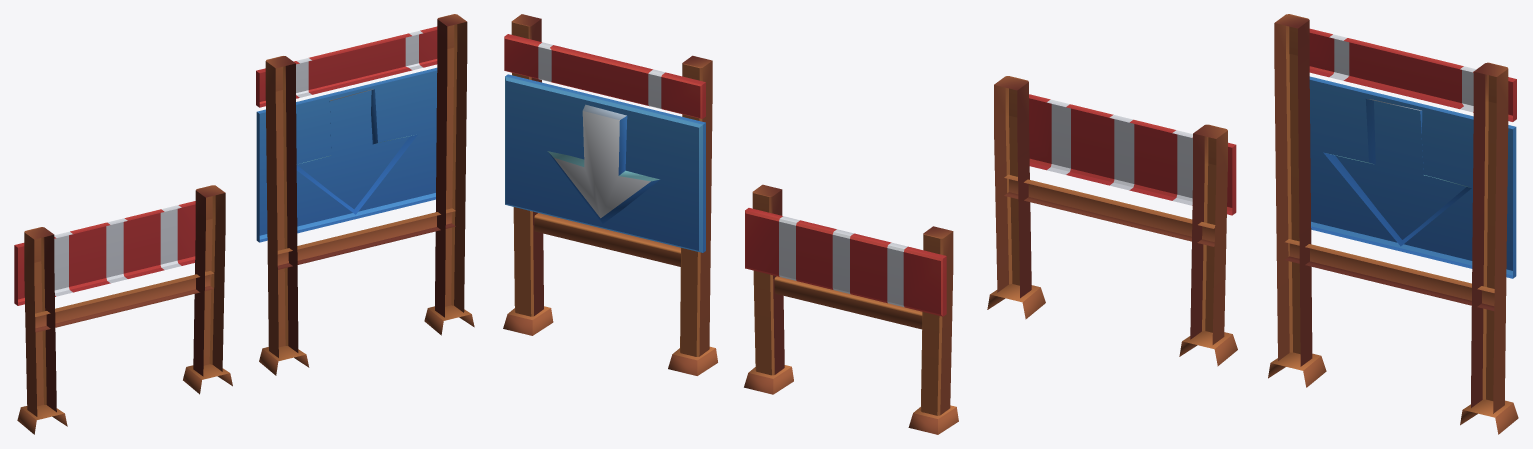
Rendered from barrier_Version_2.fbx.
3 renders of one model, left to right at view 1: azimuth 30°, elevation 25°; view 2: azimuth 150°, elevation 25°; view 3: azimuth 330°, elevation 25°, orthographic. The views are drawn at different scales.
Visible parts, largest first — view 1: Barrior_new_D, Barrior_new_Up_D; view 2: Barrior_new_D, Barrior_new_Up_D; view 3: Barrior_new_D, Barrior_new_Up_D.
Part boxes in pixels (x1,y1,x2,y2): Barrior_new_D: (256, 14, 474, 375); Barrior_new_Up_D: (14, 185, 232, 434); Barrior_new_D: (503, 14, 717, 375); Barrior_new_Up_D: (744, 184, 958, 434); Barrior_new_D: (1268, 14, 1518, 434); Barrior_new_Up_D: (987, 76, 1237, 366).
Size of the model in its own units: 172 by 113 by 15.39.
